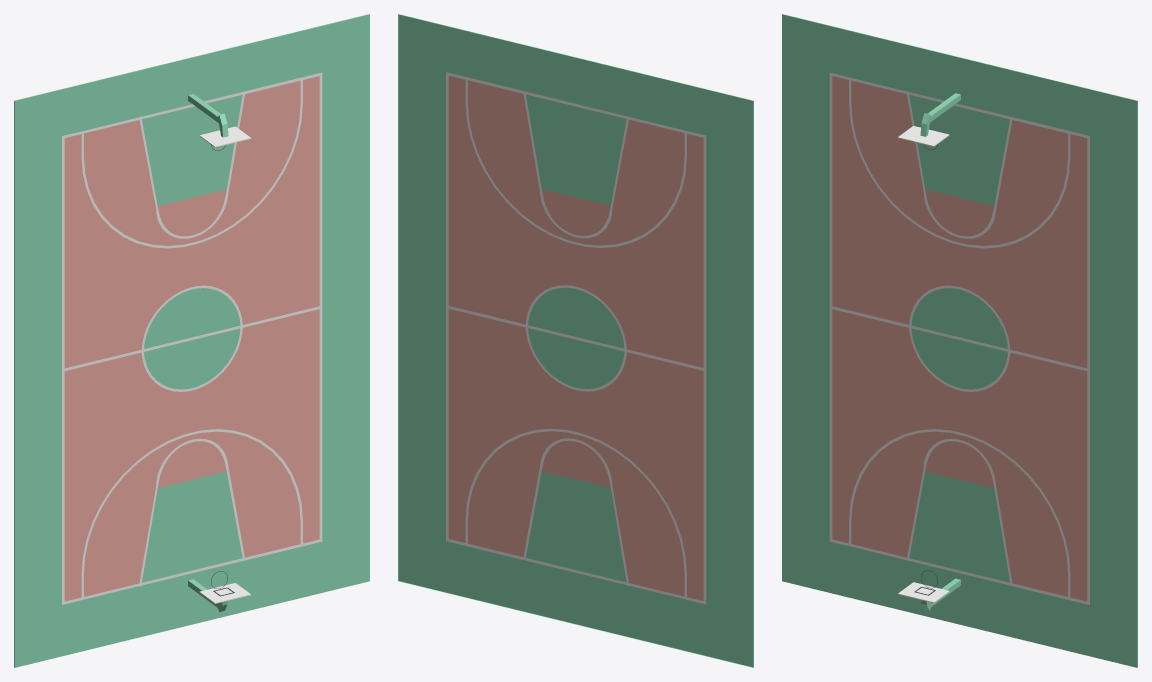
3 renders of one model, left to right at view 1: azimuth 30°, elevation 25°; view 2: azimuth 150°, elevation 25°; view 3: azimuth 330°, elevation 25°, orthographic.
Visible parts, largest first — view 1: 底座.001, 篮球版1, 篮球版2, 篮球柱子2; view 2: 底座.001; view 3: 底座.001, 篮球版1, 篮球版2, 篮球柱子2.
Boxes of the visible parts, <box> form: 底座.001: <box>14,14,369,667</box>; 篮球版1: <box>199,583,250,603</box>; 篮球版2: <box>199,126,251,147</box>; 篮球柱子2: <box>188,94,228,137</box>; 底座.001: <box>398,14,753,667</box>; 底座.001: <box>782,14,1137,667</box>; 篮球版1: <box>898,582,949,603</box>; 篮球版2: <box>897,126,949,146</box>; 篮球柱子2: <box>920,93,960,136</box>.
Size of the model in its own units: 19.68 by 30 by 4.12.
